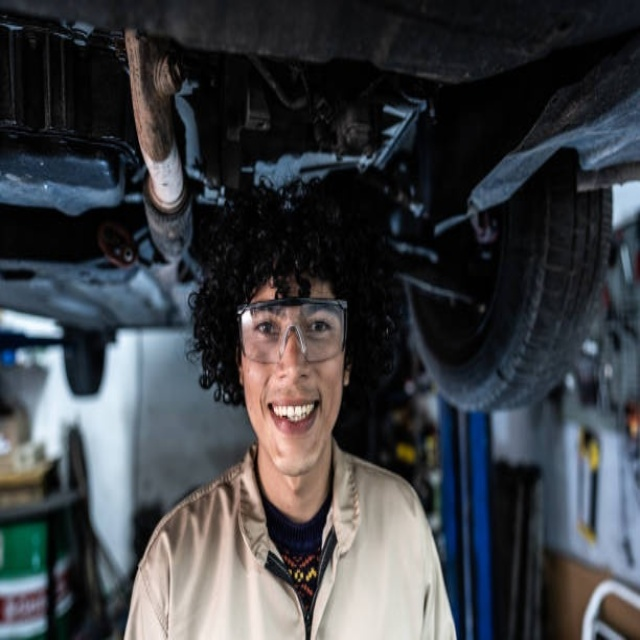Gafas: (235, 297, 350, 363)
Sin_mascara: (262, 389, 328, 458)
